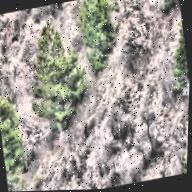boar: (76, 112, 98, 144)
